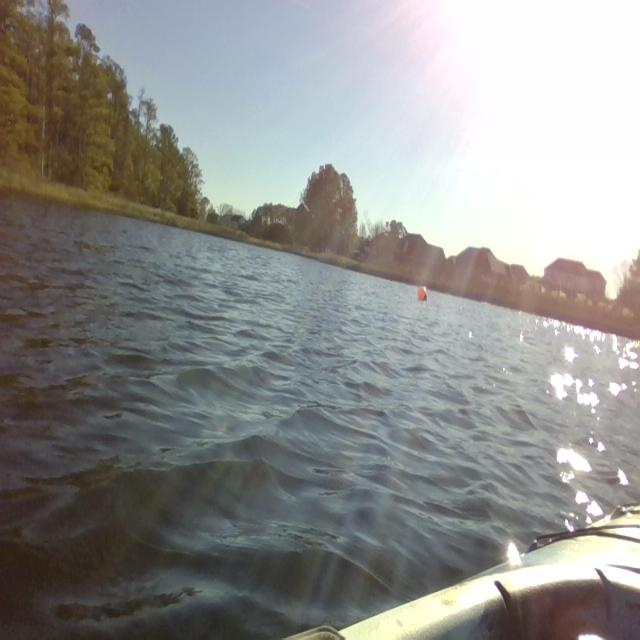Buoy: (415, 286, 429, 310)
